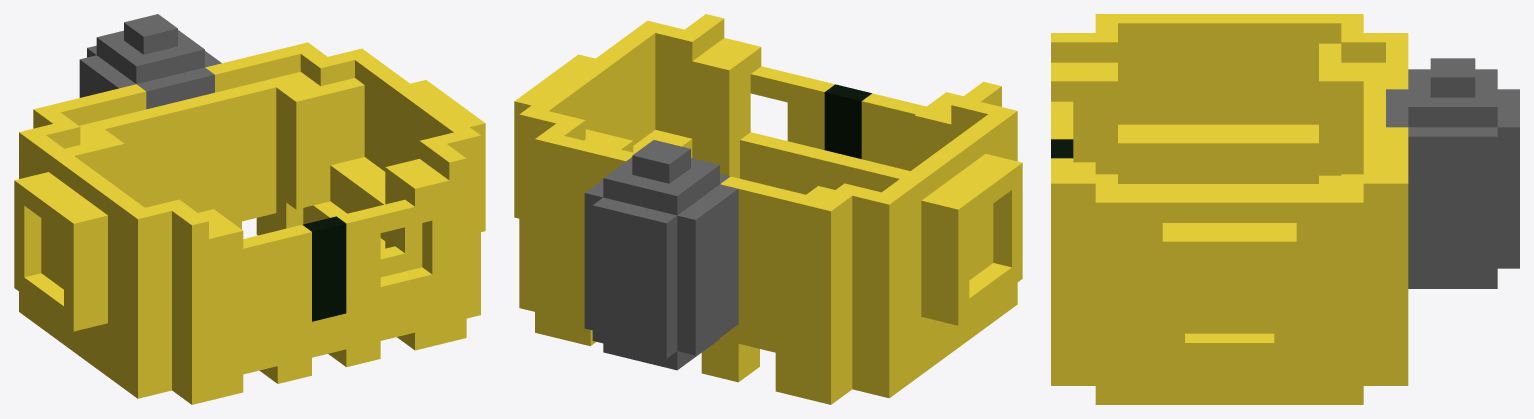
3 renders of one model, left to right at view 1: azimuth 30°, elevation 25°; view 2: azimuth 150°, elevation 25°; view 3: azimuth 270°, elevation 25°, orthographic. The views are drawn at different scales.
Parts seen in each view (by area): view 1: 112; view 2: 112; view 3: 112.
Part boxes in pixels (left/top/right/bottom): 112: left=14, top=14, right=485, bottom=404; 112: left=514, top=14, right=1022, bottom=404; 112: left=1051, top=14, right=1519, bottom=404.
Bounding box in the file's own units: 240 × 120 × 210.
Materials: 1 (1 with a texture image).
